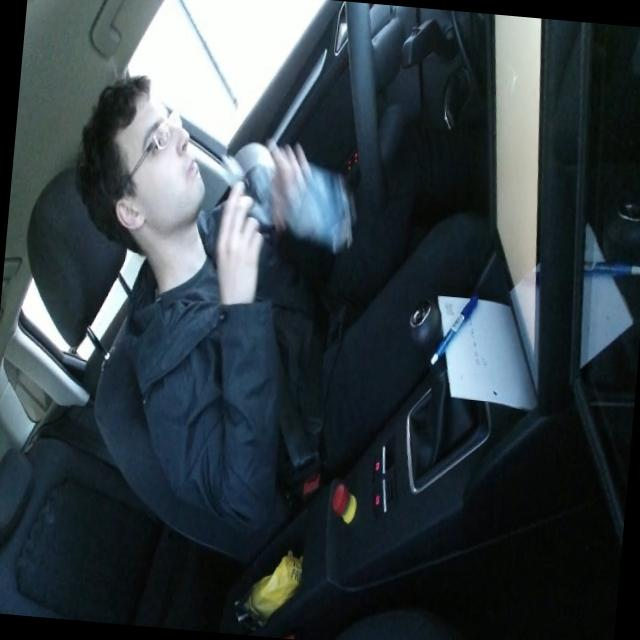pen: (426, 287, 481, 373)
